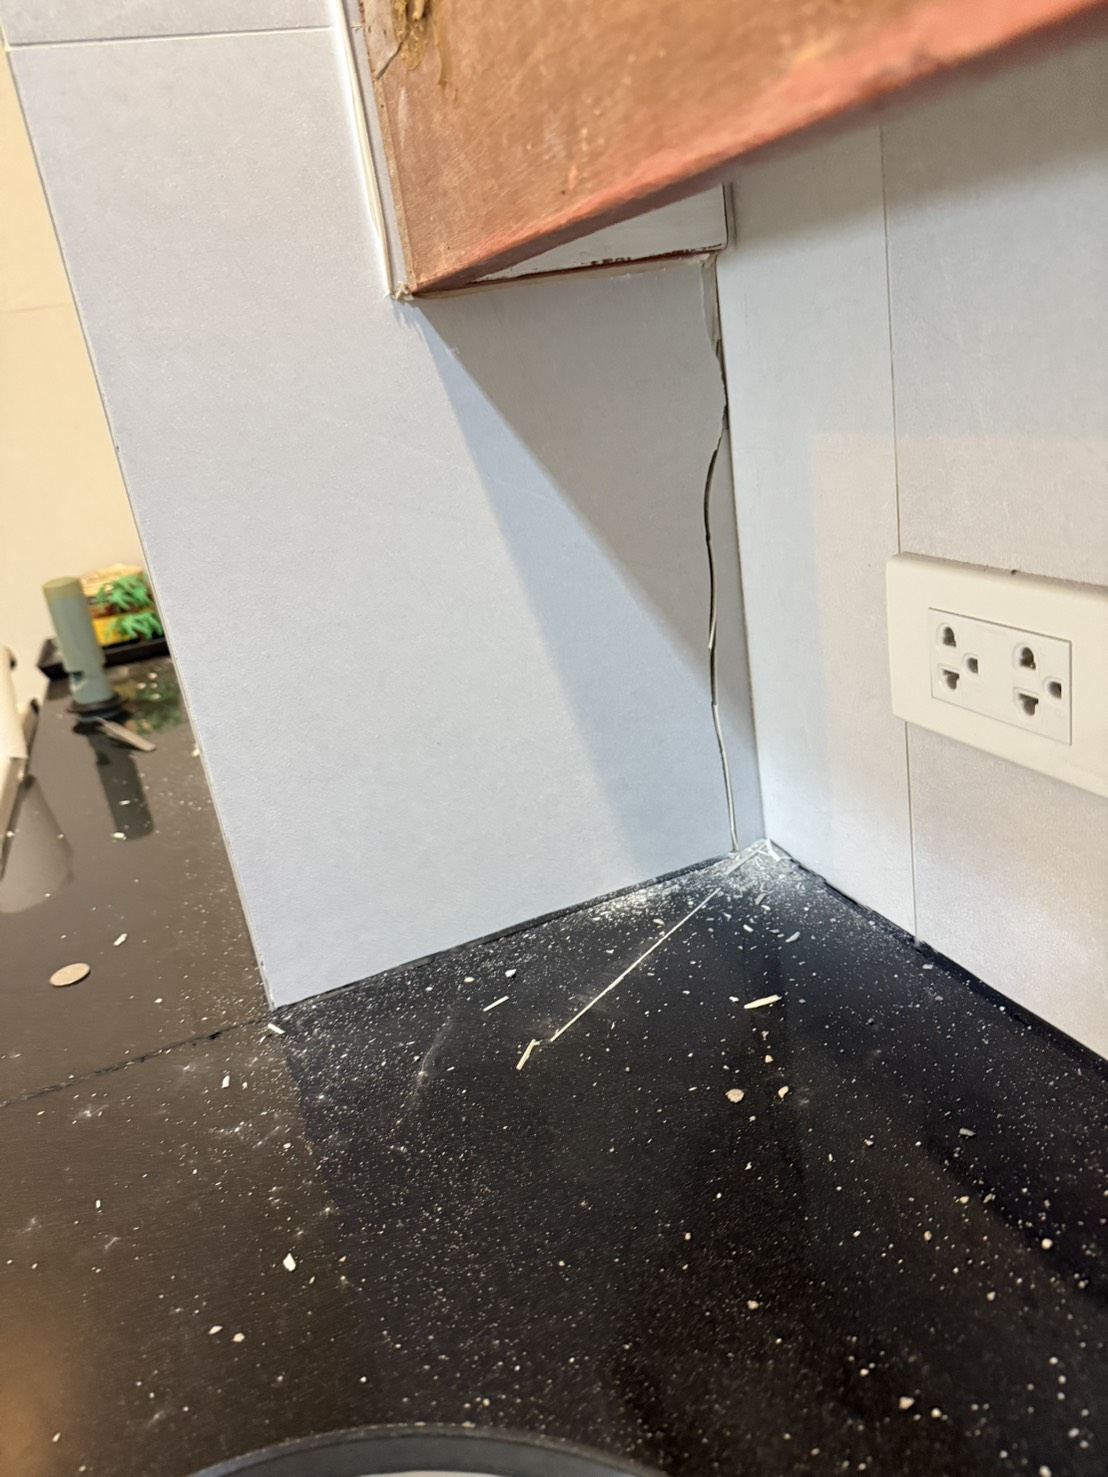Low: (661, 234, 811, 883)
